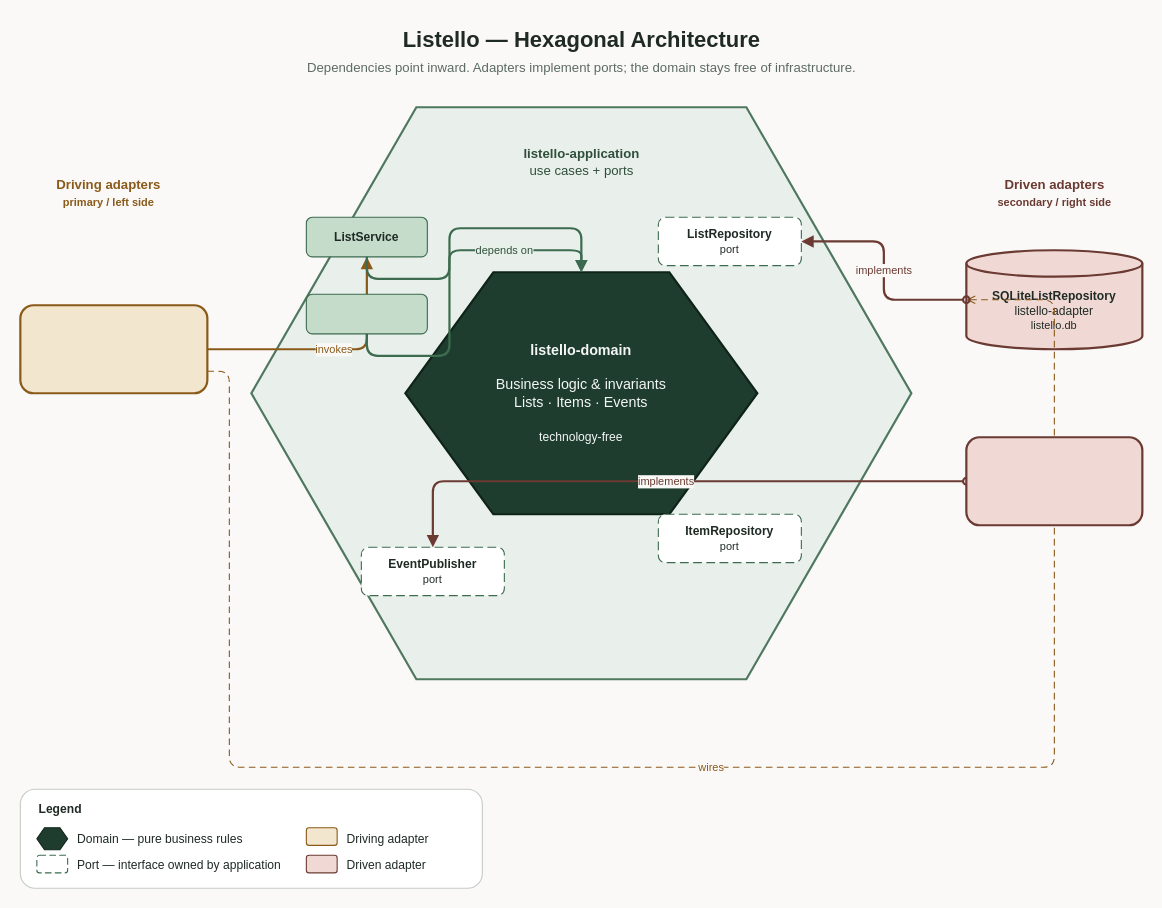
This 1162x908 diagram has some shape labels left out. The shapes that lost their labels are listed below. From the top down, each one's centre as x and y in pixels, then its label:
point 366,313: ItemService
point 113,349: cmd/listello CLI · composition root wires adapters → services
point 1054,481: LoggingEventPublisher listello-adapter domain_events.log
